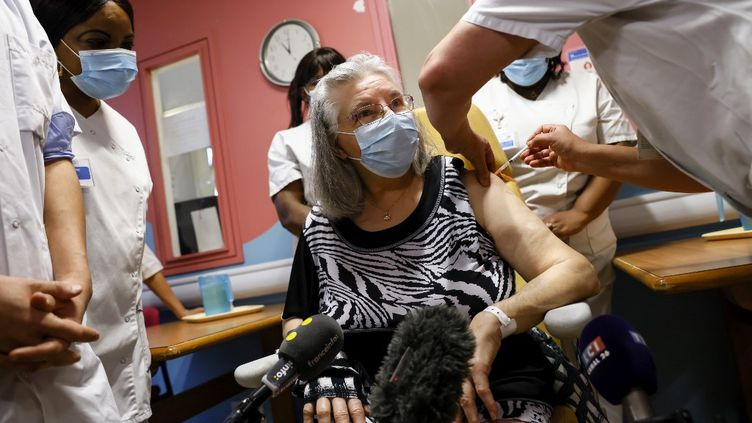with_mask: (320, 73, 420, 179), (51, 2, 148, 100)
